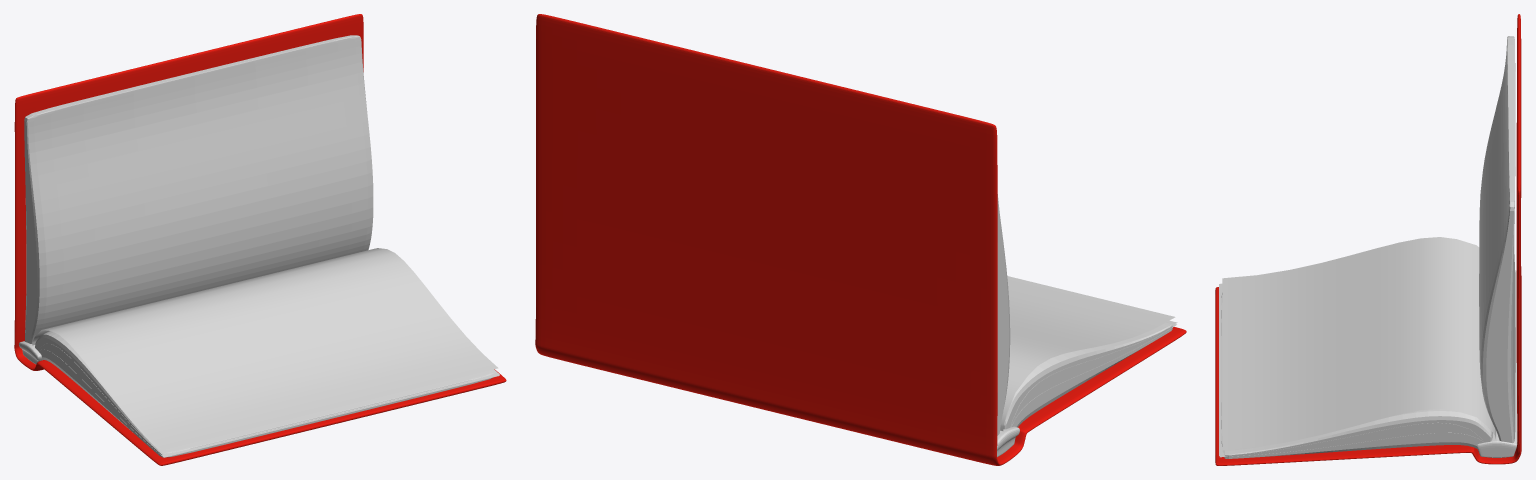
File: ksiazka_otwarta.fbx
3 views of the same model, side by side, from view 1: azimuth 30°, elevation 25°; view 2: azimuth 150°, elevation 25°; view 3: azimuth 270°, elevation 25° (orthographic). The views are drawn at different scales.
Parts seen in each view (by area): view 1: Cube.001, BezierCurve.001, okladka, Cube, BezierCurve.005, BezierCurve.004; view 2: okladka, BezierCurve.001, Cube, Cube.001; view 3: BezierCurve.001, Cube.001, Cube, okladka, Cube.002, BezierCurve.005.
Part boxes in pixels (box(x1,y1,x2,y2)): Cube.001: box(24, 35, 373, 343); BezierCurve.001: box(32, 248, 498, 449); okladka: box(14, 14, 506, 465); Cube: box(35, 331, 495, 457); BezierCurve.005: box(38, 344, 499, 456); BezierCurve.004: box(44, 349, 499, 457); okladka: box(535, 14, 1186, 465); BezierCurve.001: box(1000, 276, 1175, 430); Cube: box(1003, 322, 1172, 429); Cube.001: box(997, 194, 1010, 435); BezierCurve.001: box(1222, 237, 1495, 450); Cube.001: box(1479, 36, 1515, 443); Cube: box(1221, 293, 1492, 458); okladka: box(1215, 14, 1521, 465); Cube.002: box(1477, 270, 1517, 457); BezierCurve.005: box(1219, 283, 1453, 455).
Bounding box in the file's own units: 199 × 144 × 145.
